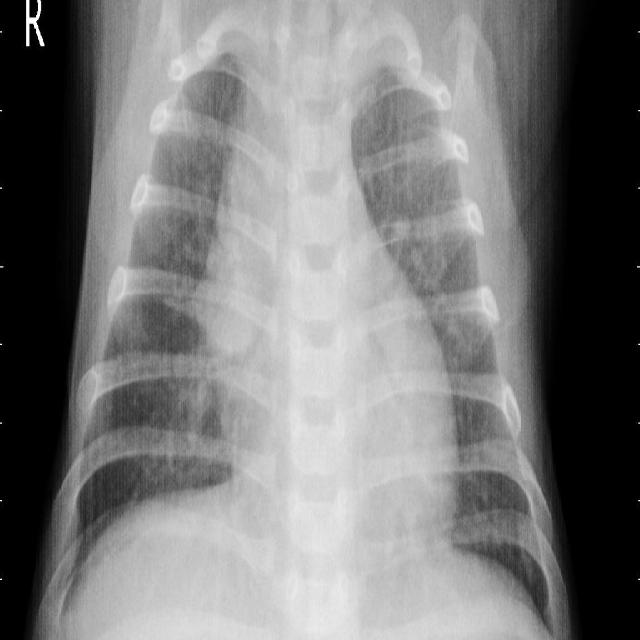high-pneumonia: (345, 4, 416, 145)
low-pneumonia: (364, 129, 466, 290), (144, 348, 230, 479), (158, 68, 224, 211)
